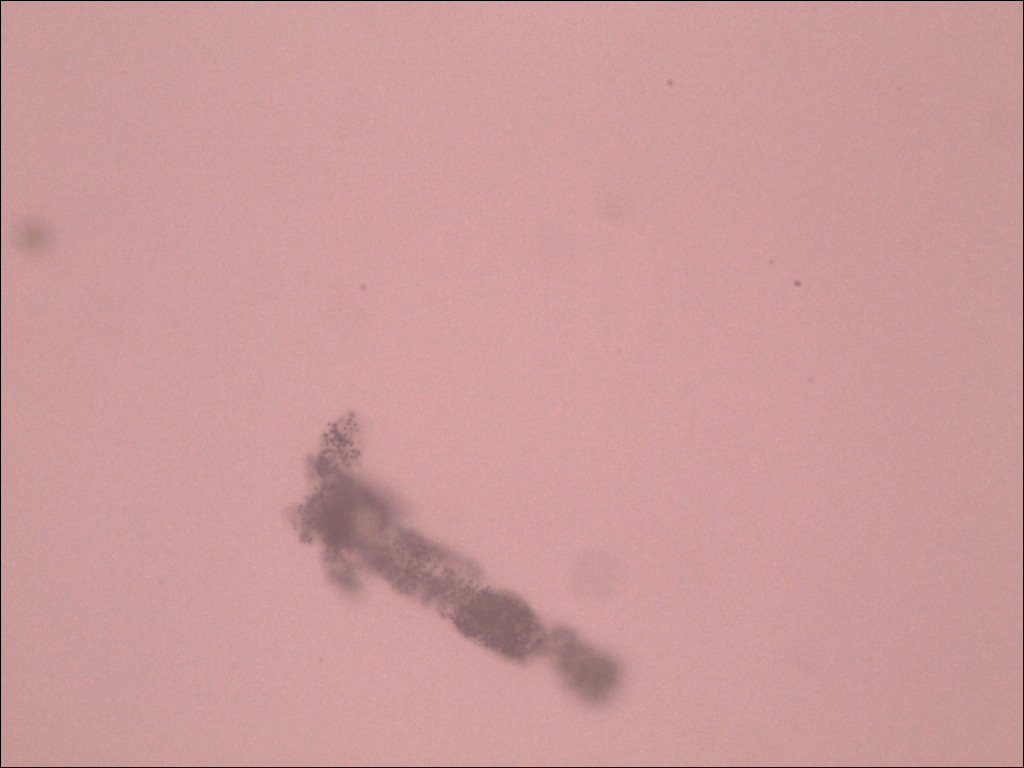amoeba: (275, 401, 639, 713)
